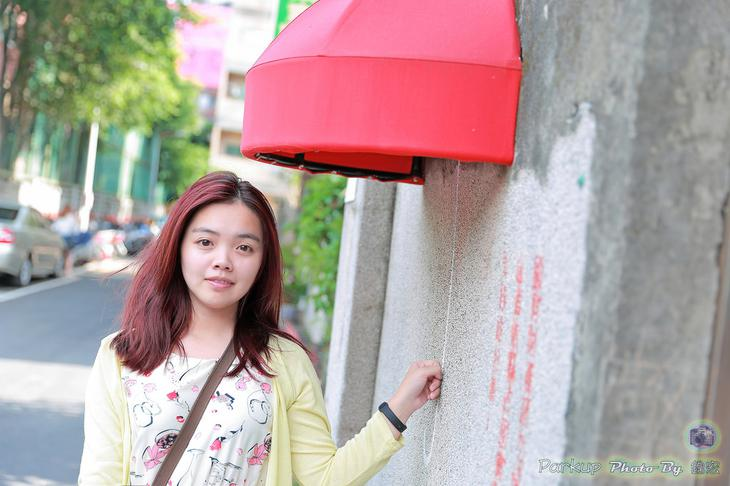people: (78, 173, 444, 486)
